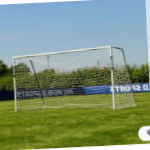goals: (9, 44, 141, 112)
